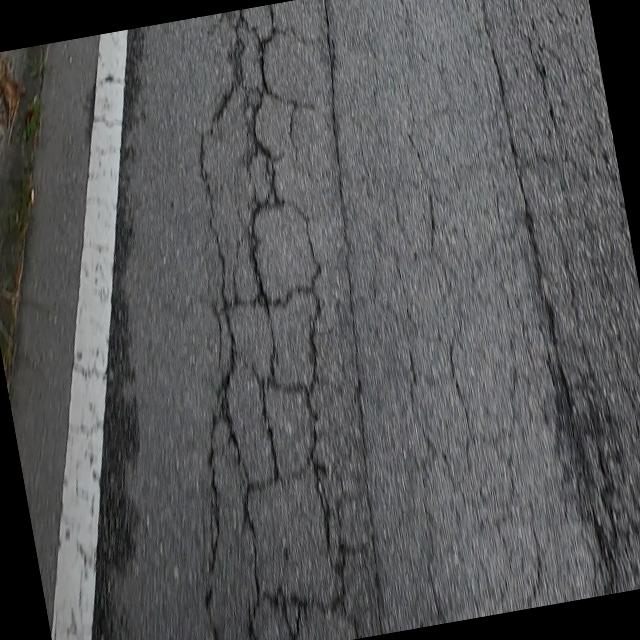Retak-Buaya: (197, 0, 381, 640), (481, 0, 640, 589)
